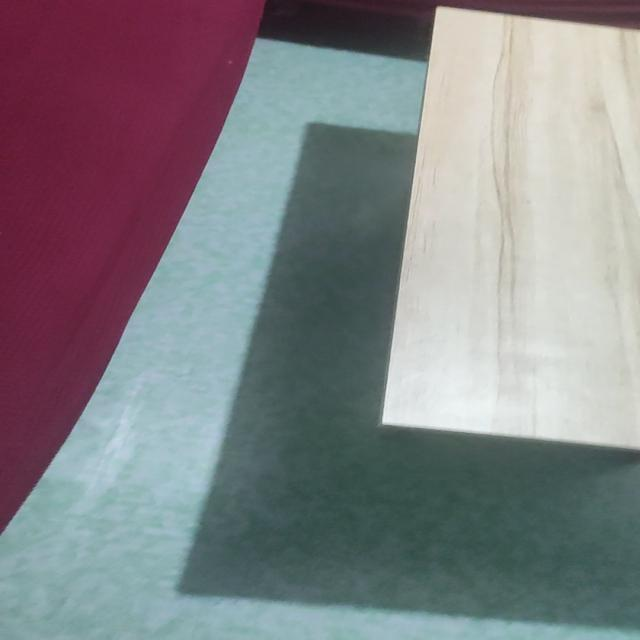table: (371, 0, 640, 453)
